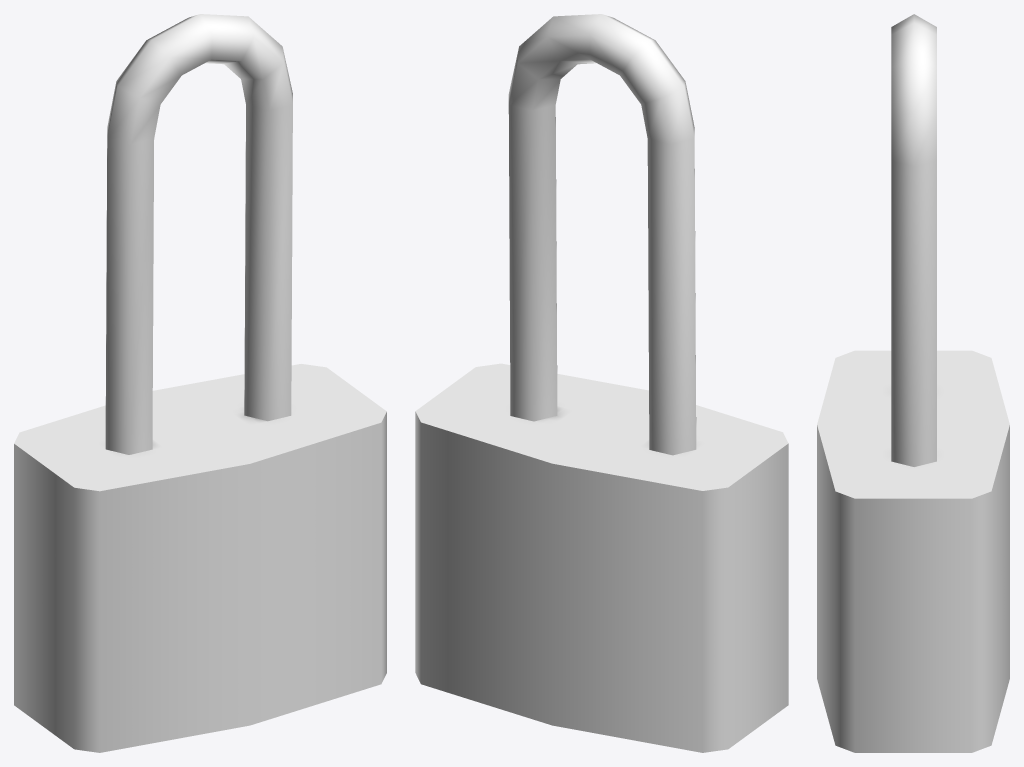
File: FBX_Lock.fbx
The picture shows the model from 3 angles, left to right: view 1: azimuth 30°, elevation 25°; view 2: azimuth 150°, elevation 25°; view 3: azimuth 270°, elevation 25°; orthographic projection. The views are drawn at different scales.
Visible parts, largest first — view 1: SM_Lock; view 2: SM_Lock; view 3: SM_Lock.
Boxes of the visible parts, left/top/right/bottom form: SM_Lock: left=14, top=14, right=386, bottom=752; SM_Lock: left=415, top=14, right=788, bottom=752; SM_Lock: left=817, top=14, right=1009, bottom=752.
Bounding box in the file's own units: 0.04 × 0.0825 × 0.022.
